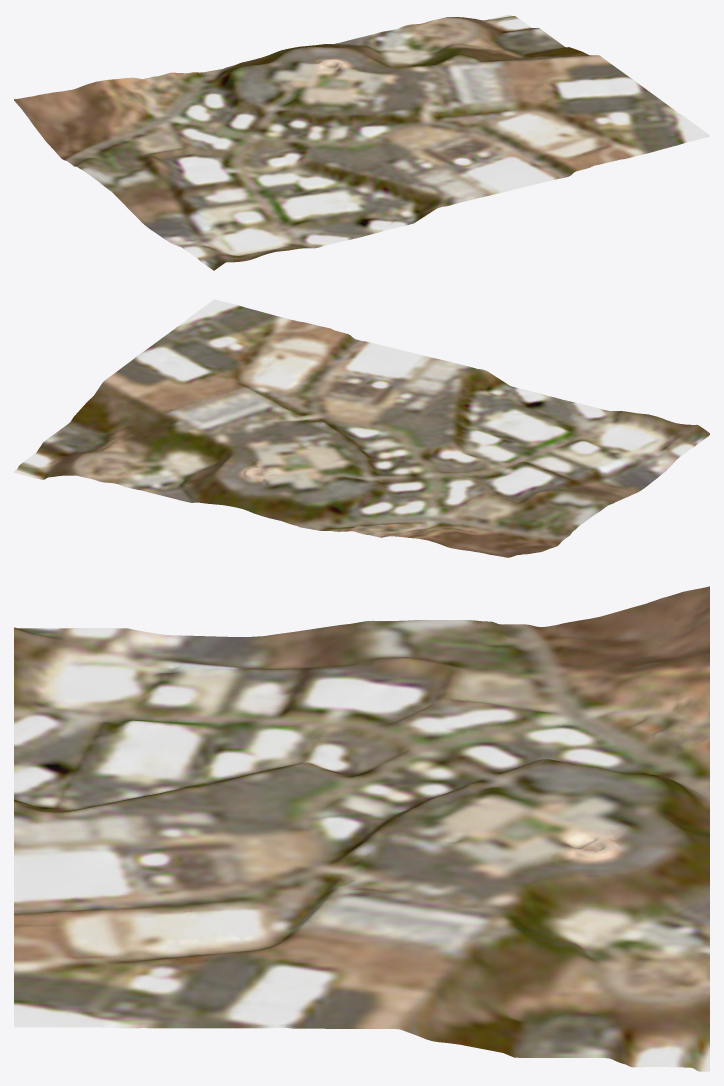
File: terrain_r3_c6.glb
3 views of the same model, one above another, from view 1: azimuth 30°, elevation 25°; view 2: azimuth 150°, elevation 25°; view 3: azimuth 270°, elevation 25° (orthographic). The views are drawn at different scales.
Parts seen in each view (by area): view 1: terrain_r3_c6_lod0; view 2: terrain_r3_c6_lod0; view 3: terrain_r3_c6_lod0.
Boxes of the visible parts, bbox=[...] form: terrain_r3_c6_lod0: bbox=[14, 14, 709, 270]; terrain_r3_c6_lod0: bbox=[14, 299, 709, 557]; terrain_r3_c6_lod0: bbox=[14, 586, 709, 1071].
Bounding box in the file's own units: 1125 × 81.65 × 787.
1 material, 1 textured.
